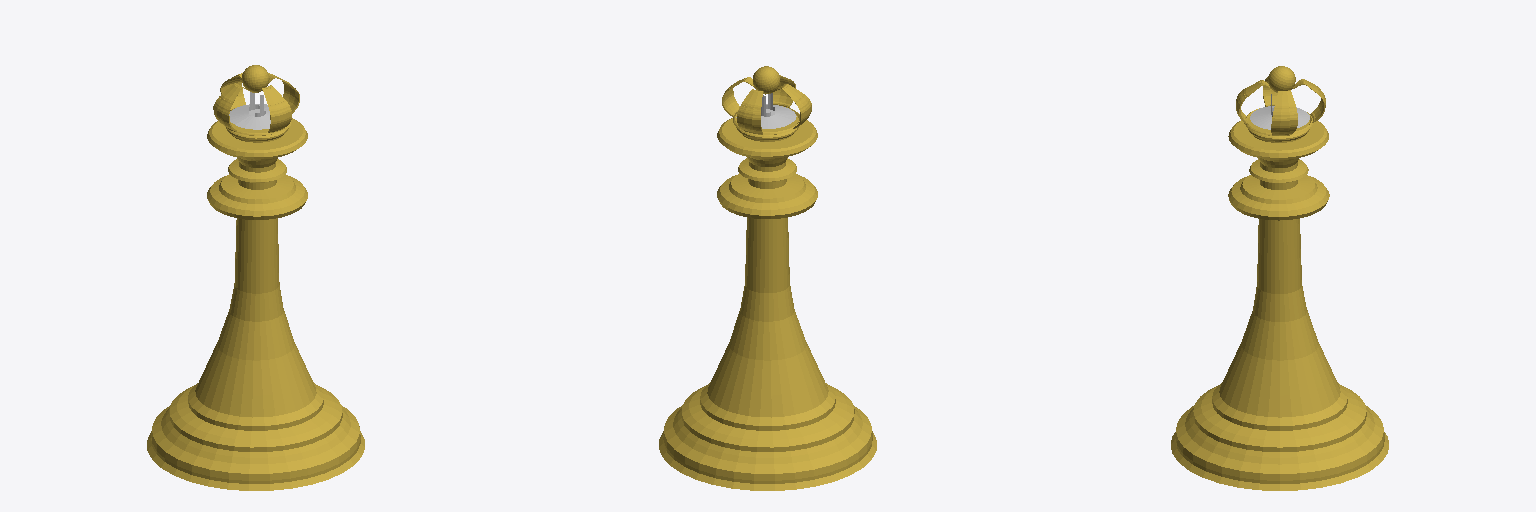
Rendered from QUEEN.obj.
3 views of the same model, side by side, from view 1: azimuth 30°, elevation 25°; view 2: azimuth 150°, elevation 25°; view 3: azimuth 270°, elevation 25° (orthographic).
Parts seen in each view (by area): view 1: Cylinder, Cylinder.001, Sphere; view 2: Cylinder, Cylinder.001, Sphere; view 3: Cylinder, Cylinder.001, Sphere.
Part boxes in pixels (left/top/right/bottom): Cylinder: left=147, top=73, right=364, bottom=490; Cylinder.001: left=229, top=92, right=270, bottom=129; Sphere: left=242, top=65, right=269, bottom=92; Cylinder: left=659, top=75, right=876, bottom=490; Cylinder.001: left=736, top=93, right=796, bottom=128; Sphere: left=753, top=66, right=779, bottom=93; Cylinder: left=1171, top=77, right=1388, bottom=490; Cylinder.001: left=1250, top=94, right=1309, bottom=129; Sphere: left=1268, top=66, right=1295, bottom=92.
Bounding box in the file's own units: 0.9678 × 1.84 × 0.9678.